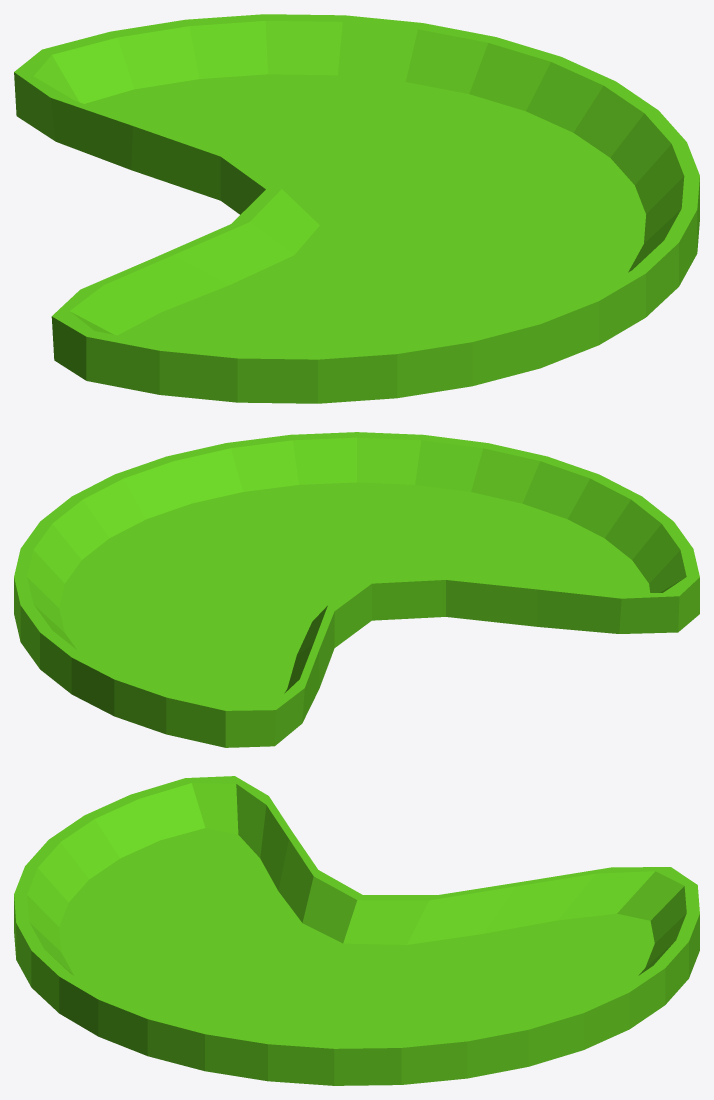
File: waterlily_half.fbx
The picture shows the model from 3 angles, top to bottom: view 1: azimuth 30°, elevation 25°; view 2: azimuth 150°, elevation 25°; view 3: azimuth 270°, elevation 25°; orthographic projection. The views are drawn at different scales.
Parts seen in each view (by area): view 1: Waterlily_Half; view 2: Waterlily_Half; view 3: Waterlily_Half.
Part boxes in pixels (x1,y1,x2,y2): Waterlily_Half: (14, 14, 699, 403); Waterlily_Half: (14, 432, 699, 747); Waterlily_Half: (14, 776, 699, 1085).
Size of the model in its own units: 36.84 by 2.33 by 39.14.
